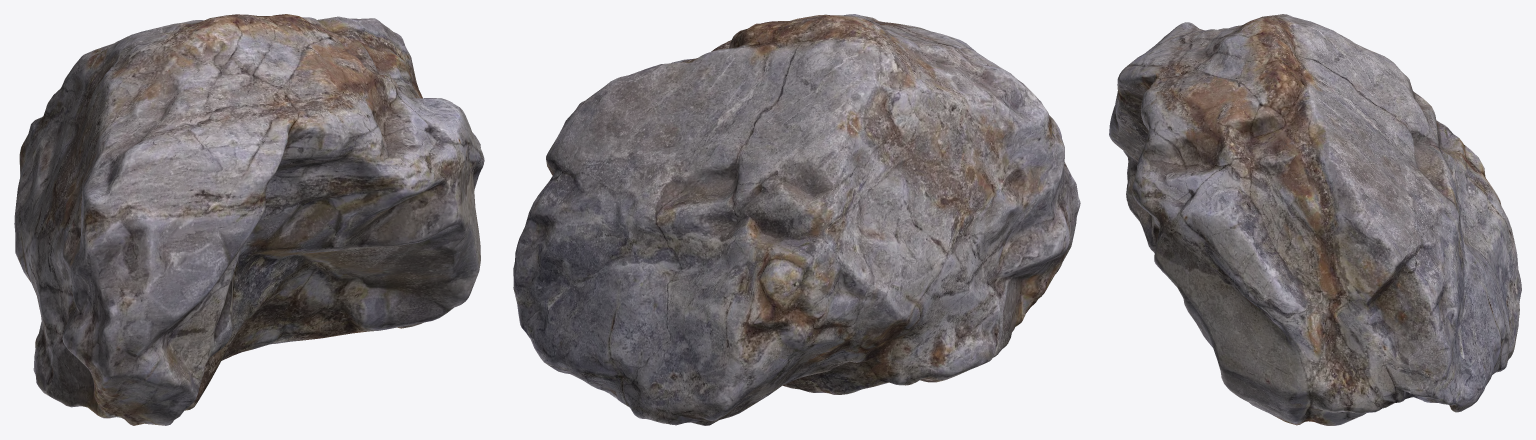
File: alpine-rock-2.glb
The picture shows the model from 3 angles, left to right: view 1: azimuth 30°, elevation 25°; view 2: azimuth 150°, elevation 25°; view 3: azimuth 270°, elevation 25°; orthographic projection. The views are drawn at different scales.
Visible parts, largest first — view 1: Object_2; view 2: Object_2; view 3: Object_2.
Boxes of the visible parts, left/top/right/bottom form: Object_2: left=14, top=14, right=484, bottom=425; Object_2: left=513, top=14, right=1080, bottom=425; Object_2: left=1109, top=14, right=1521, bottom=425.
Bounding box in the file's own units: 0.1533 × 0.1144 × 0.1342.
Materials: 1 (1 with a texture image).
